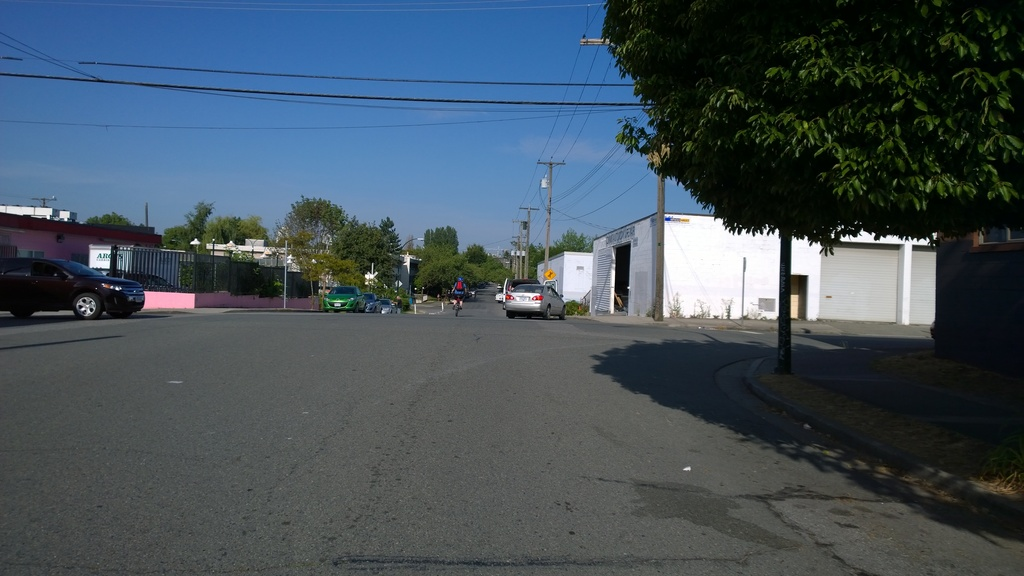Car: (0, 247, 149, 323), (492, 277, 570, 317), (320, 286, 403, 316)
